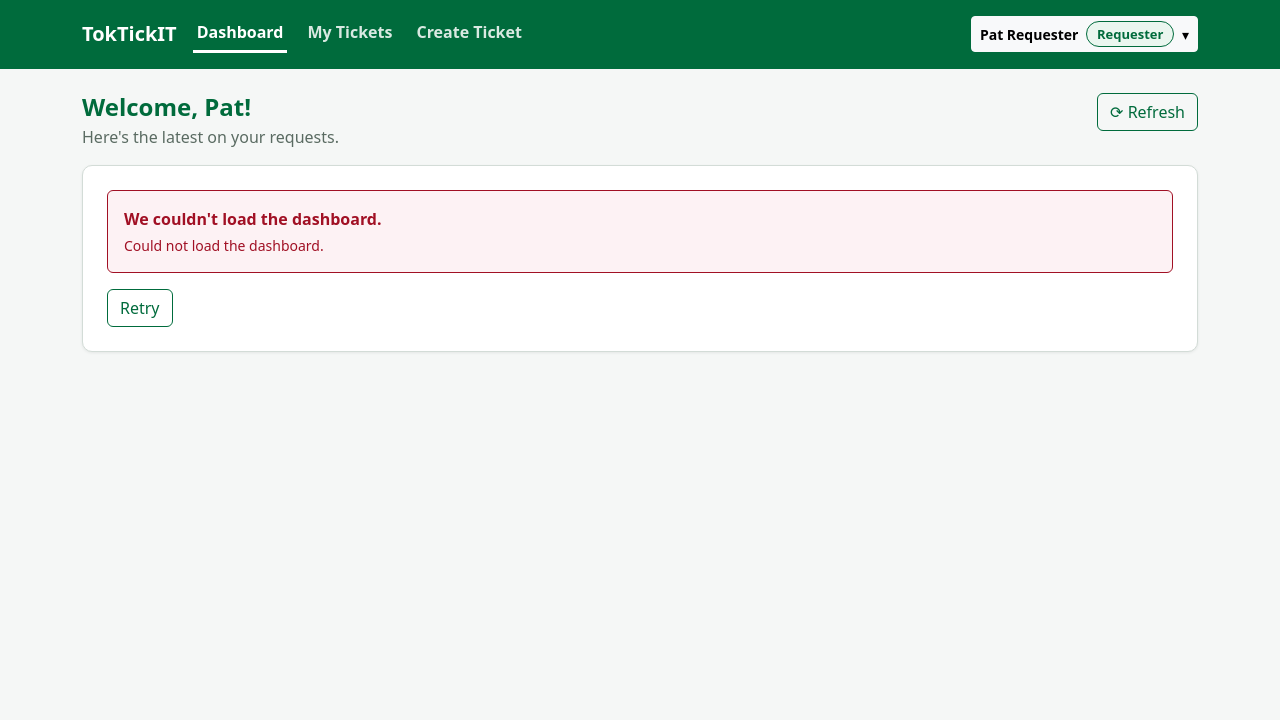
Scenario: Requester Dashboard — states (AC-28) › shows an error banner with Retry and no stale numbers on API failure
Check: the message shows "couldn't load the dashboard", box x1=124 y1=208 x2=382 y2=230
Click the button "Retry" at (140, 308), box x1=107 y1=289 x2=172 y2=327
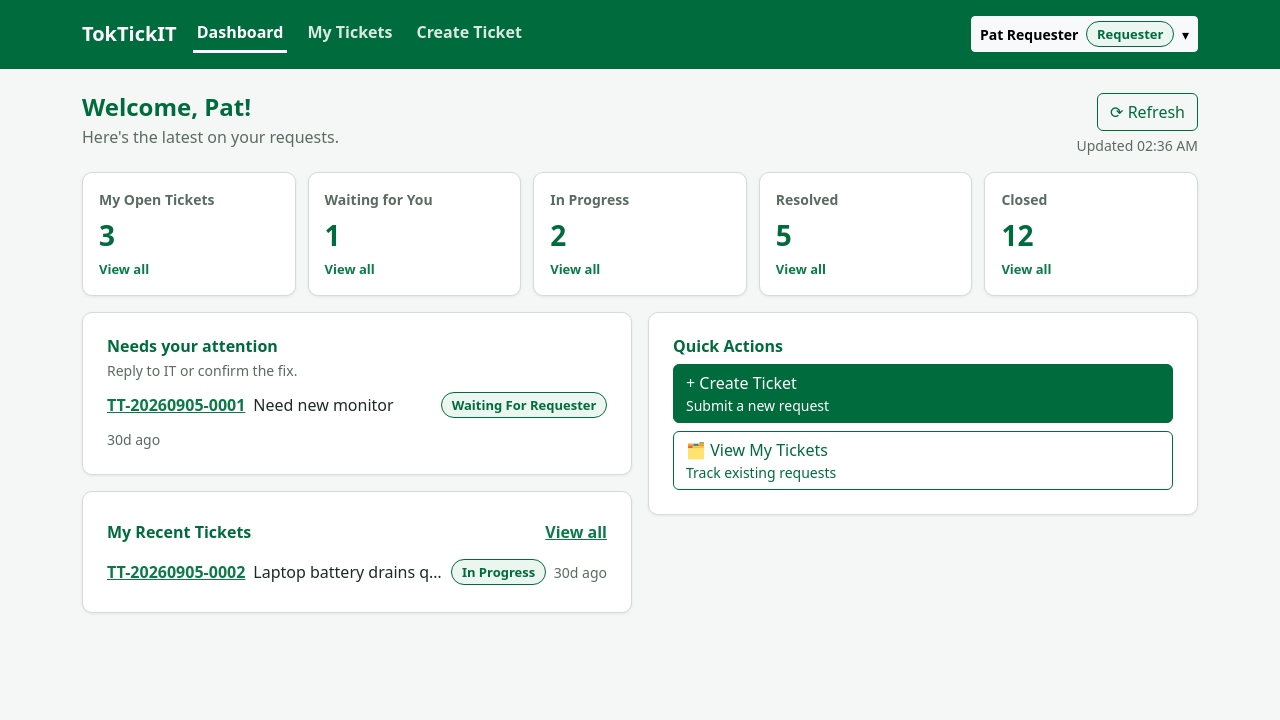
Check: the button with aria-label "My Open Tickets: 3, view all" is shown, box x1=82 y1=172 x2=296 y2=296
